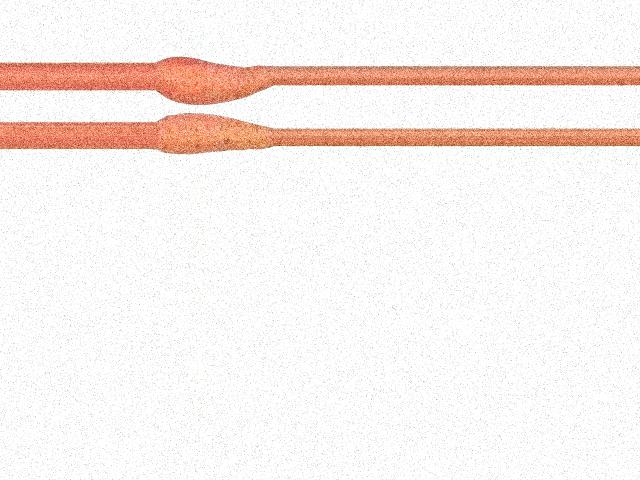sweet_potato: (155, 112, 270, 153)
